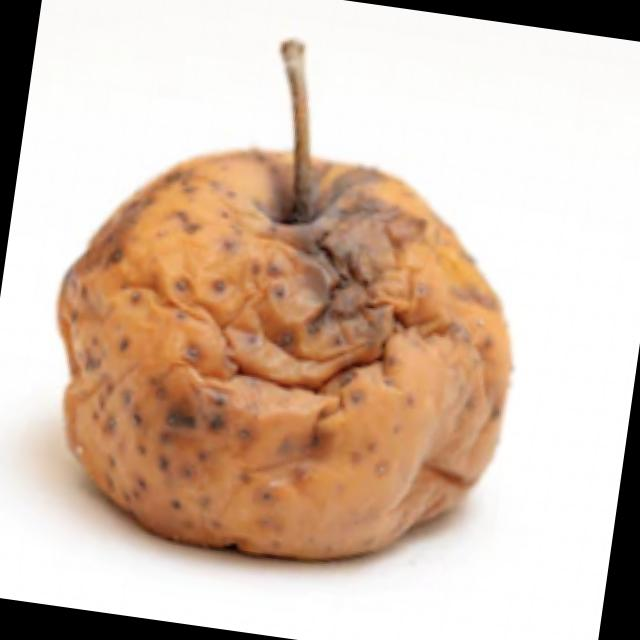rotten_apple: (21, 67, 547, 588)
